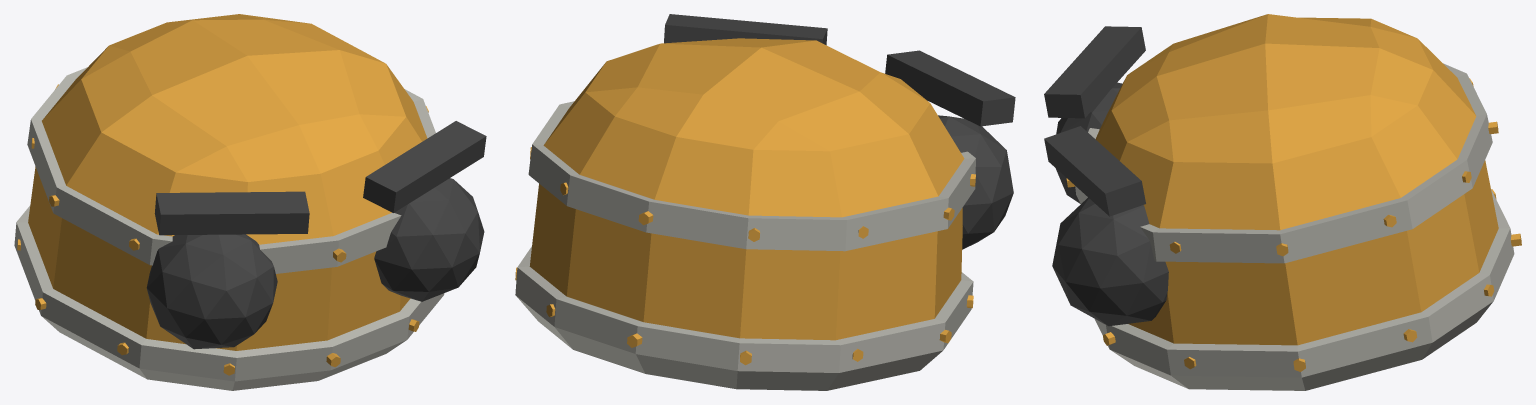
Rendered from Head.fbx.
The picture shows the model from 3 angles, left to right: view 1: azimuth 30°, elevation 25°; view 2: azimuth 150°, elevation 25°; view 3: azimuth 270°, elevation 25°; orthographic projection. The views are drawn at different scales.
Visible parts, largest first — view 1: Head; view 2: Head; view 3: Head.
Part boxes in pixels (x1=…): Head: x1=14, y1=14, x2=486, y2=390; Head: x1=515, y1=14, x2=1015, y2=390; Head: x1=1044, y1=14, x2=1521, y2=390.
Size of the model in its own units: 264 by 179 by 272.
